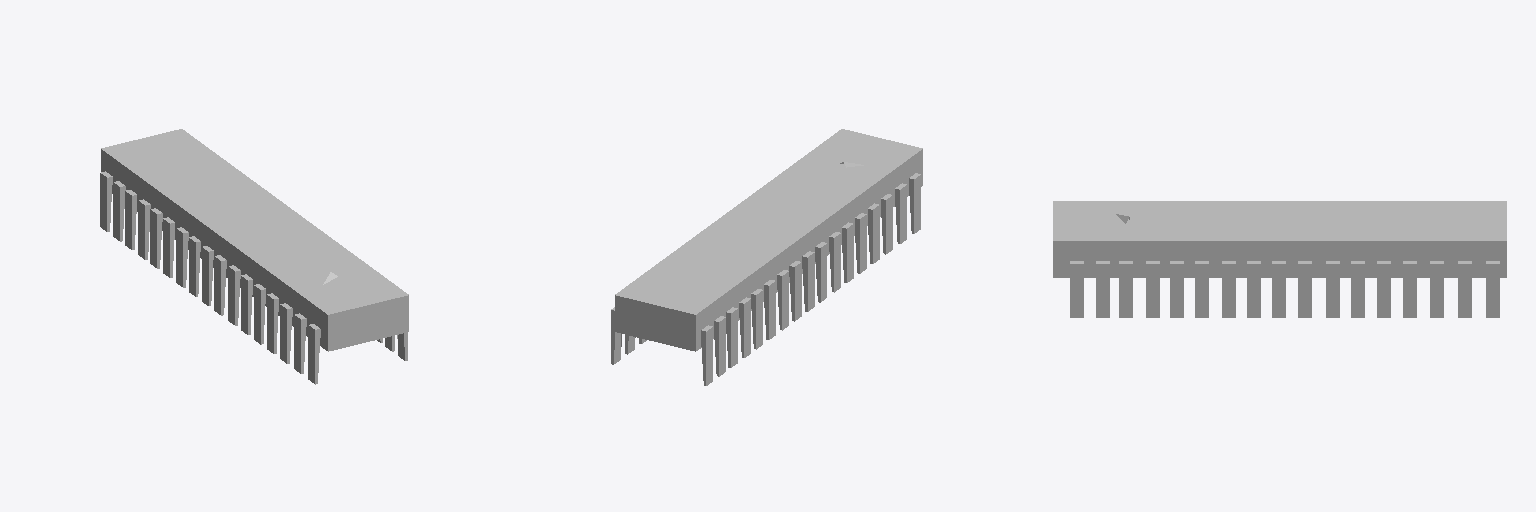
File: RAM.obj
The picture shows the model from 3 angles: view 1: azimuth 30°, elevation 25°; view 2: azimuth 150°, elevation 25°; view 3: azimuth 270°, elevation 25°; orthographic projection.
Parts seen in each view (by area): view 1: Mesh35 Model, Mesh31 Group33 Group19 Model, Mesh28 Group30 Group19 Model, Mesh32 Group34 Group19 Model, Mesh23 Group25 Group19 Model, Mesh19 Group21 Group19 Model, Mesh22 Group24 Group19 Model, Mesh18 Group20 Group19 Model, Mesh25 Group27 Group19 Model, Mesh26 Group28 Group19 Model, Mesh20 Group22 Group19 Model, Mesh21 Group23 Group19 Model (+6 smaller); view 2: Mesh35 Model, Mesh30 Group32 Group19 Model, Mesh29 Group31 Group19 Model, Mesh24 Group26 Group19 Model, Mesh33 Group35 Group19 Model, Mesh34 Group36 Group19 Model, Mesh27 Group29 Group19 Model, Mesh21 Group23 Group19 Model, Mesh25 Group27 Group19 Model, Mesh26 Group28 Group19 Model, Mesh20 Group22 Group19 Model, Mesh18 Group20 Group19 Model (+6 smaller); view 3: Mesh35 Model, Mesh1 Group2 Group1 Model, Mesh2 Group3 Group1 Model, Mesh3 Group4 Group1 Model, Mesh4 Group5 Group1 Model, Mesh5 Group6 Group1 Model, Mesh6 Group7 Group1 Model, Mesh7 Group8 Group1 Model, Mesh8 Group9 Group1 Model, Mesh9 Group10 Group1 Model, Mesh10 Group11 Group1 Model, Mesh11 Group12 Group1 Model (+6 smaller).
Part boxes in pixels (left/top/right/bottom): Mesh35 Model: left=101, top=129, right=408, bottom=351; Mesh31 Group33 Group19 Model: left=214, top=255, right=226, bottom=315; Mesh28 Group30 Group19 Model: left=176, top=227, right=188, bottom=287; Mesh32 Group34 Group19 Model: left=228, top=265, right=240, bottom=325; Mesh23 Group25 Group19 Model: left=150, top=208, right=162, bottom=268; Mesh19 Group21 Group19 Model: left=100, top=171, right=112, bottom=231; Mesh22 Group24 Group19 Model: left=138, top=199, right=150, bottom=259; Mesh18 Group20 Group19 Model: left=308, top=324, right=320, bottom=384; Mesh25 Group27 Group19 Model: left=280, top=303, right=292, bottom=363; Mesh26 Group28 Group19 Model: left=294, top=313, right=306, bottom=373; Mesh20 Group22 Group19 Model: left=113, top=181, right=125, bottom=241; Mesh21 Group23 Group19 Model: left=125, top=190, right=136, bottom=249; Mesh35 Model: left=615, top=129, right=922, bottom=351; Mesh30 Group32 Group19 Model: left=802, top=251, right=814, bottom=311; Mesh29 Group31 Group19 Model: left=789, top=261, right=801, bottom=321; Mesh24 Group26 Group19 Model: left=868, top=203, right=879, bottom=263; Mesh33 Group35 Group19 Model: left=842, top=222, right=853, bottom=282; Mesh34 Group36 Group19 Model: left=855, top=213, right=866, bottom=273; Mesh27 Group29 Group19 Model: left=764, top=280, right=775, bottom=339; Mesh21 Group23 Group19 Model: left=726, top=307, right=737, bottom=367; Mesh25 Group27 Group19 Model: left=881, top=194, right=892, bottom=254; Mesh26 Group28 Group19 Model: left=895, top=183, right=906, bottom=243; Mesh20 Group22 Group19 Model: left=714, top=316, right=725, bottom=376; Mesh18 Group20 Group19 Model: left=909, top=173, right=920, bottom=233; Mesh35 Model: left=1053, top=201, right=1506, bottom=277; Mesh1 Group2 Group1 Model: left=1486, top=261, right=1499, bottom=317; Mesh2 Group3 Group1 Model: left=1070, top=261, right=1083, bottom=317; Mesh3 Group4 Group1 Model: left=1096, top=261, right=1109, bottom=317; Mesh4 Group5 Group1 Model: left=1119, top=261, right=1132, bottom=317; Mesh5 Group6 Group1 Model: left=1146, top=261, right=1159, bottom=317; Mesh6 Group7 Group1 Model: left=1170, top=261, right=1183, bottom=317; Mesh7 Group8 Group1 Model: left=1403, top=261, right=1416, bottom=317; Mesh8 Group9 Group1 Model: left=1430, top=261, right=1443, bottom=317; Mesh9 Group10 Group1 Model: left=1458, top=261, right=1471, bottom=317; Mesh10 Group11 Group1 Model: left=1195, top=261, right=1208, bottom=317; Mesh11 Group12 Group1 Model: left=1222, top=261, right=1235, bottom=317.
Bounding box in the file's own units: 0.4343 × 0.3474 × 1.82.